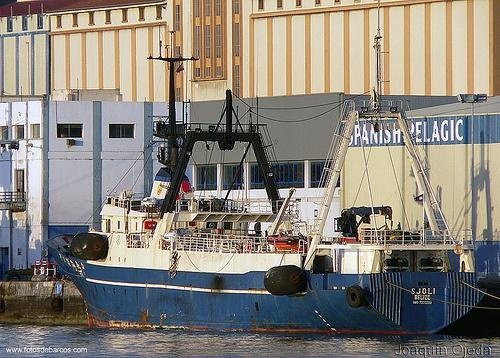boat: (47, 90, 488, 335)
